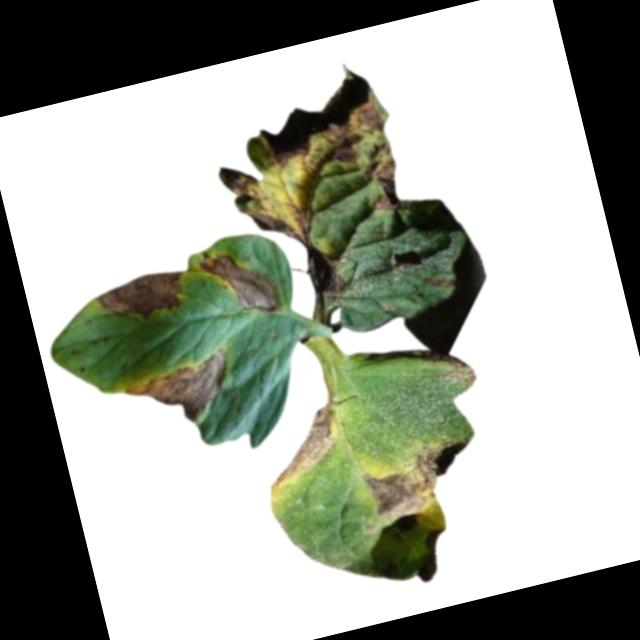Early_blight: (209, 63, 428, 313), (115, 344, 243, 441), (358, 442, 483, 527), (256, 398, 350, 488), (196, 237, 283, 325), (91, 267, 192, 331), (439, 348, 478, 392), (424, 272, 456, 297)
